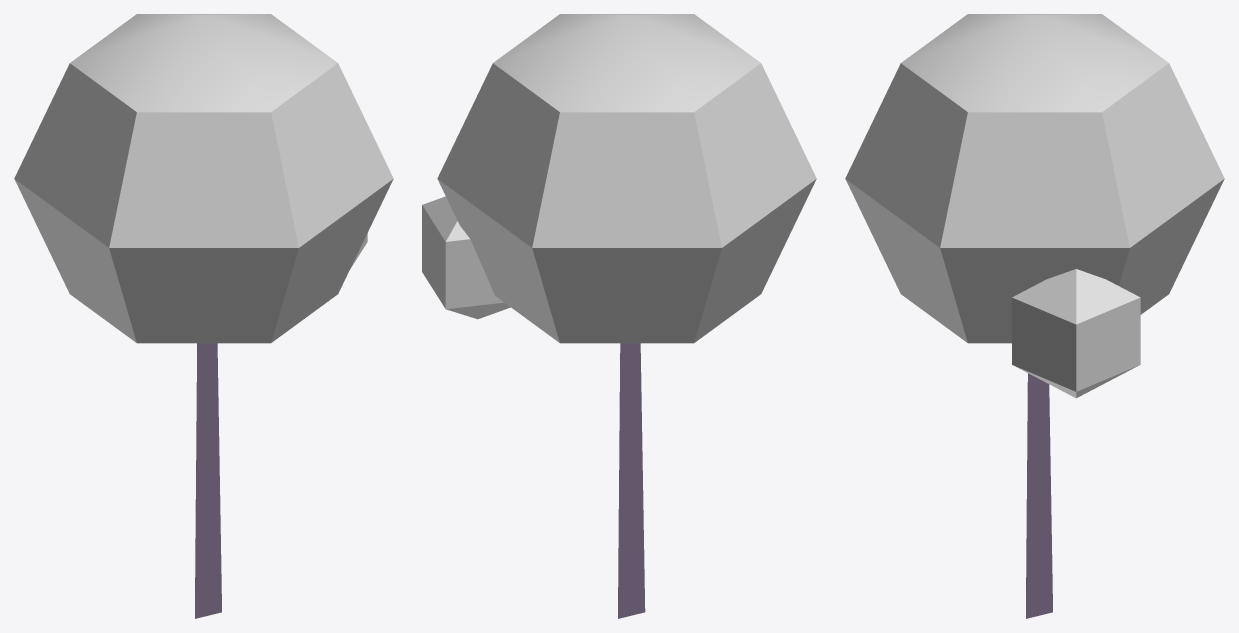
File: tree_round_far.glb
3 renders of one model, left to right at view 1: azimuth 30°, elevation 25°; view 2: azimuth 150°, elevation 25°; view 3: azimuth 270°, elevation 25°, orthographic.
Visible parts, largest first — view 1: tree_round_far; view 2: tree_round_far; view 3: tree_round_far.
Part boxes in pixels (x1=…): tree_round_far: x1=14, y1=14, x2=393, y2=618; tree_round_far: x1=422, y1=14, x2=816, y2=618; tree_round_far: x1=845, y1=14, x2=1224, y2=618.
Size of the model in its own units: 4.57 by 7.99 by 4.6.
